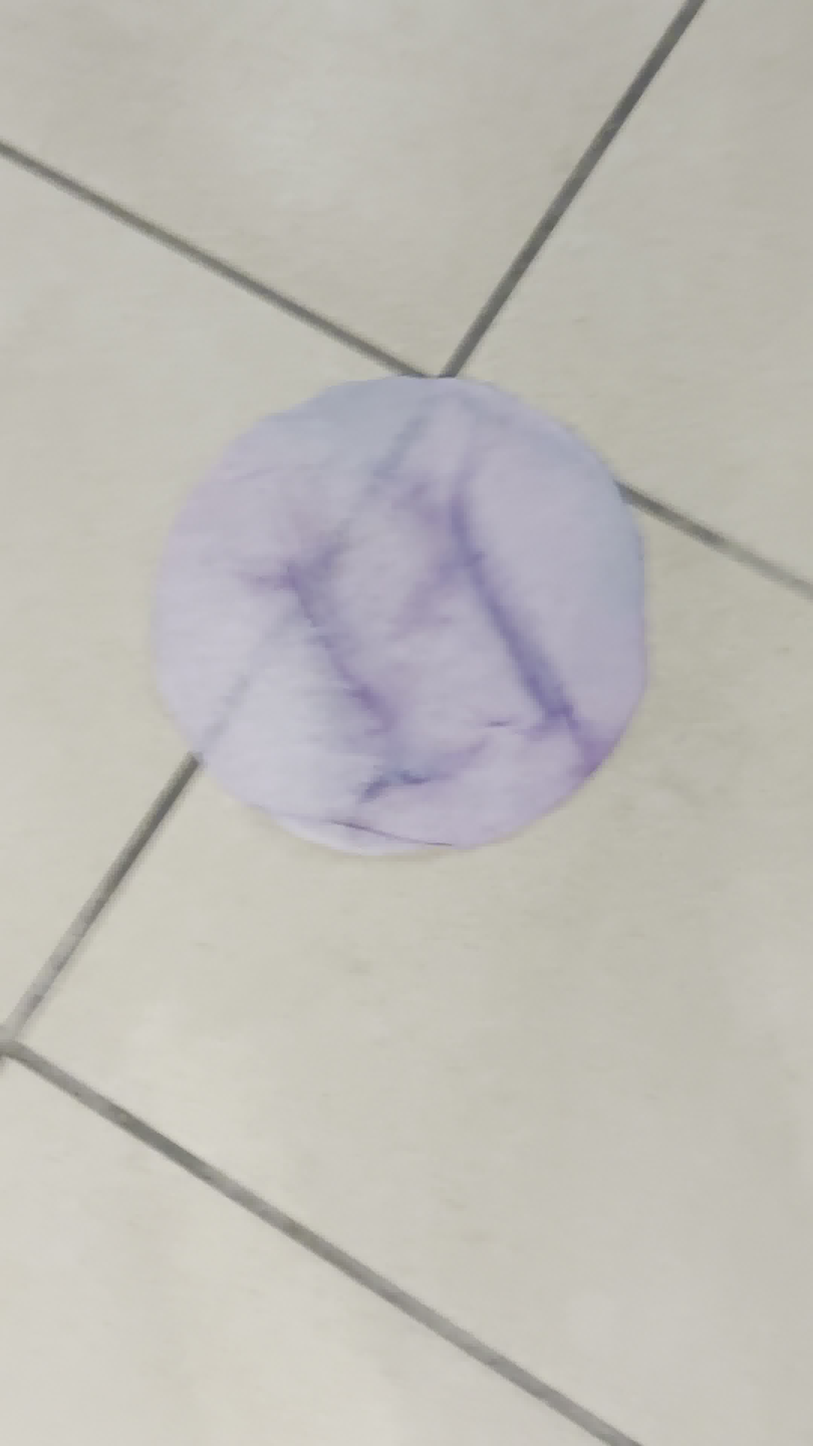Target: (156, 374, 653, 863)
